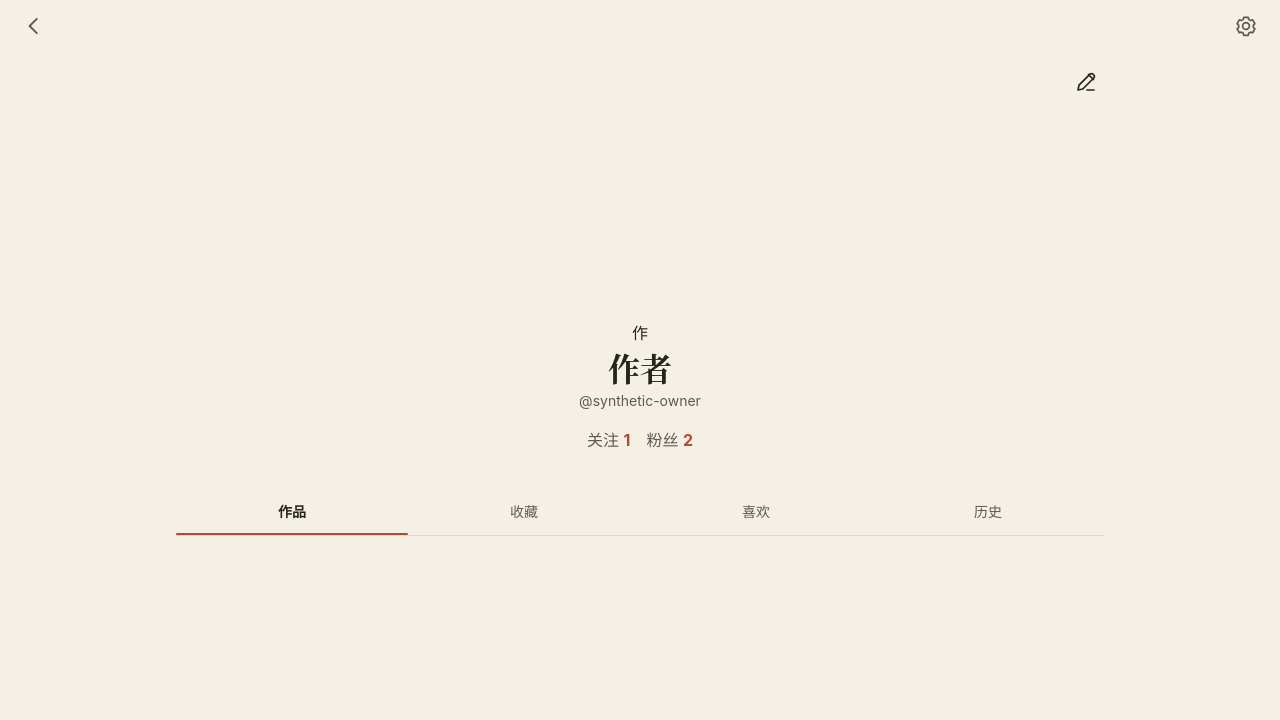
Scenario: Primary user profile › resets account-scoped page state and owner controls when the session changes
What coordinates should you click on to do the following:
click the tab "收藏"
I would click on:
 (524, 511)
Its box is x1=408 y1=487 x2=640 y2=535.
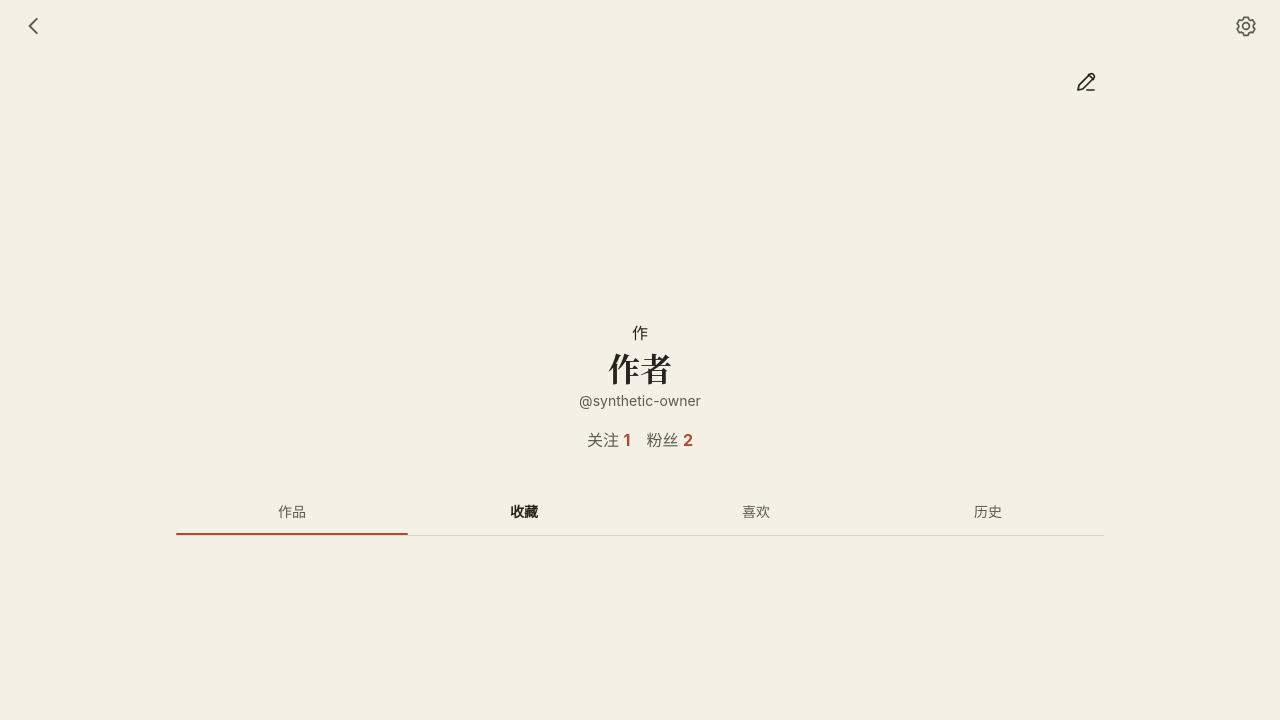
What coordinates should you click on to do the following:
click the button named "编辑主页背景"
I would click on:
 (1086, 82)
Its box is x1=1064 y1=60 x2=1108 y2=104.
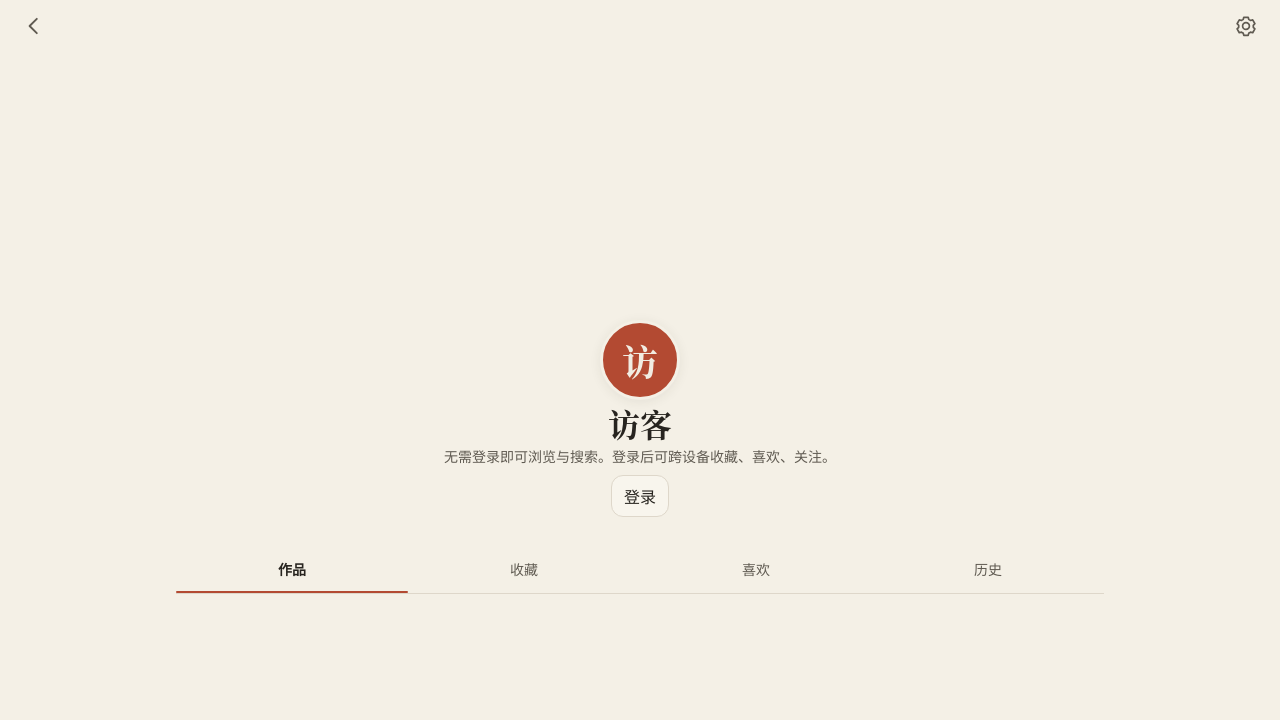
Expected: the text "访客" is shown, x1=608 y1=400 x2=672 y2=446
